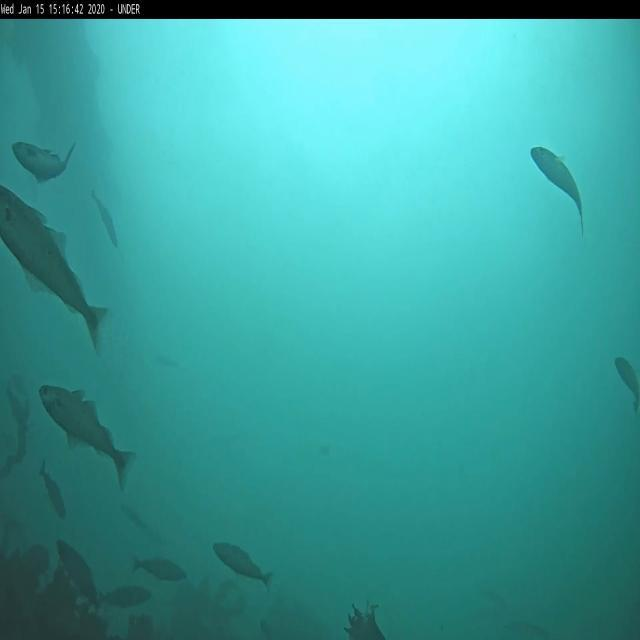fish: (0, 184, 106, 352), (39, 384, 134, 494), (532, 147, 584, 234), (212, 540, 272, 588), (12, 137, 75, 182), (56, 544, 98, 610), (40, 458, 66, 520), (91, 190, 118, 248), (614, 356, 639, 412), (132, 560, 188, 582), (99, 587, 152, 609)
